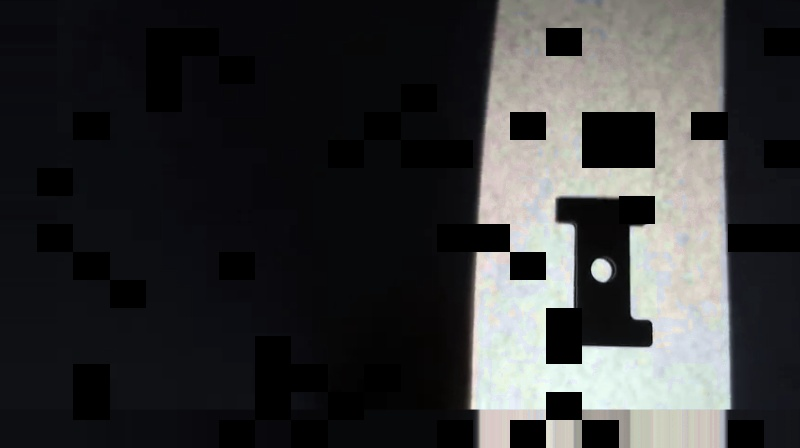O002: (547, 189, 658, 354)
